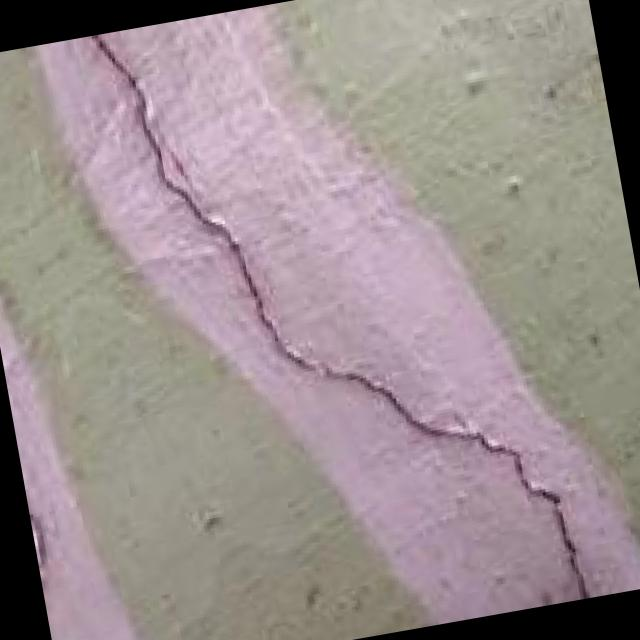crack: (75, 0, 595, 640)
